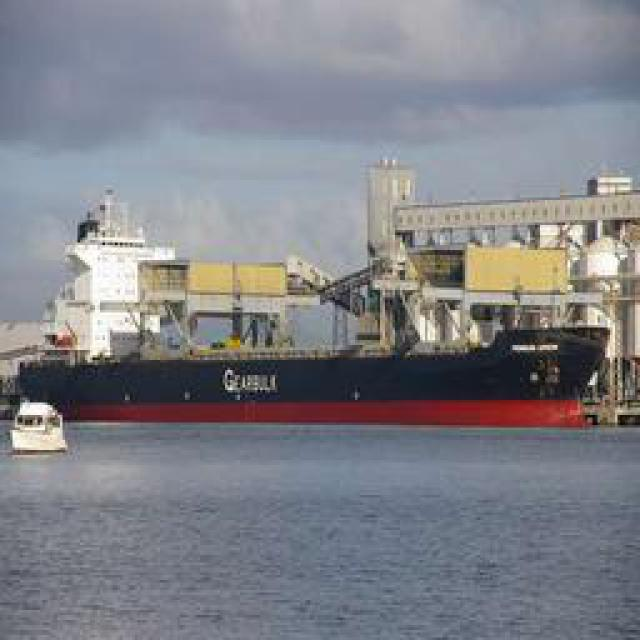Ship: (13, 402, 68, 455)
